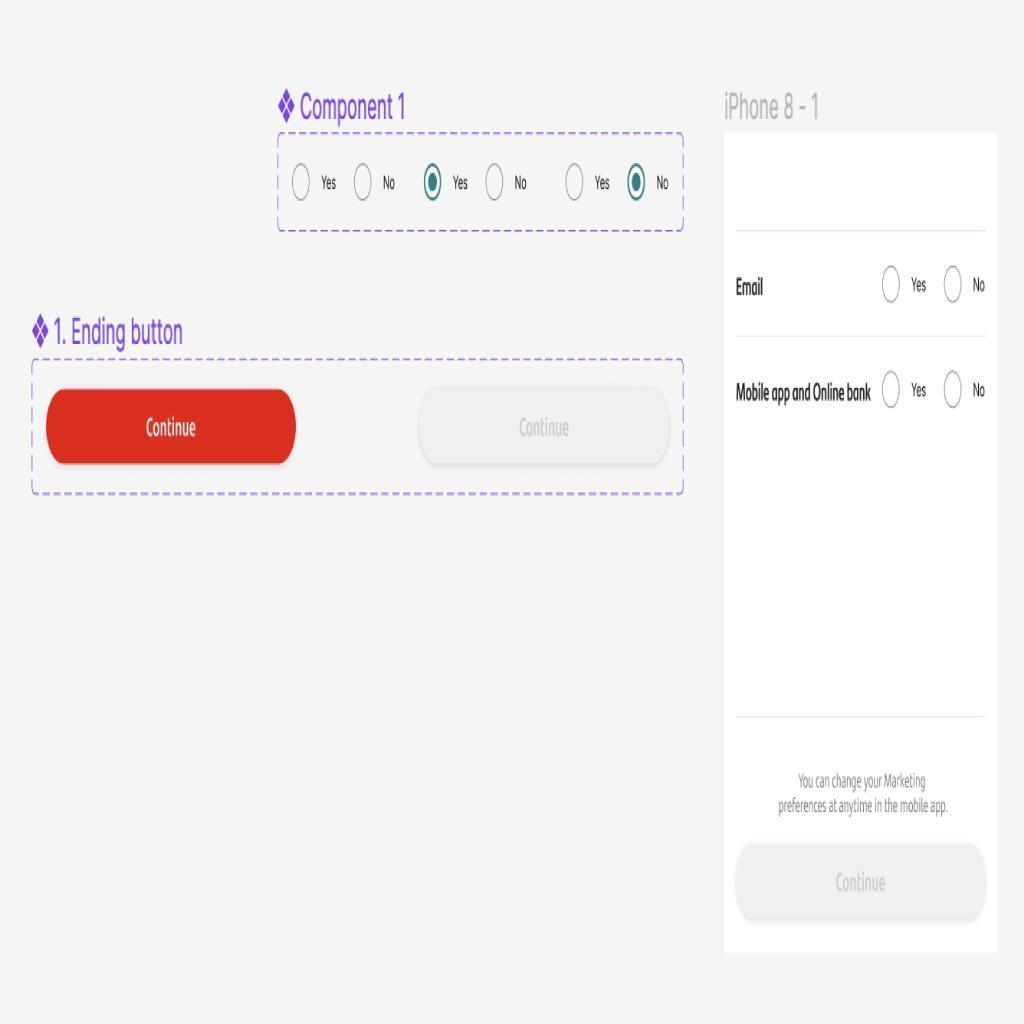button: (419, 384, 674, 467), (738, 845, 989, 926), (45, 388, 299, 468)
label: (734, 378, 875, 407), (734, 272, 769, 303)
radio: (562, 162, 586, 205), (627, 163, 650, 207), (942, 370, 965, 411), (291, 162, 312, 203), (353, 163, 375, 202), (882, 265, 902, 307), (880, 372, 902, 410), (423, 162, 443, 203), (485, 163, 505, 204), (945, 266, 963, 306)
